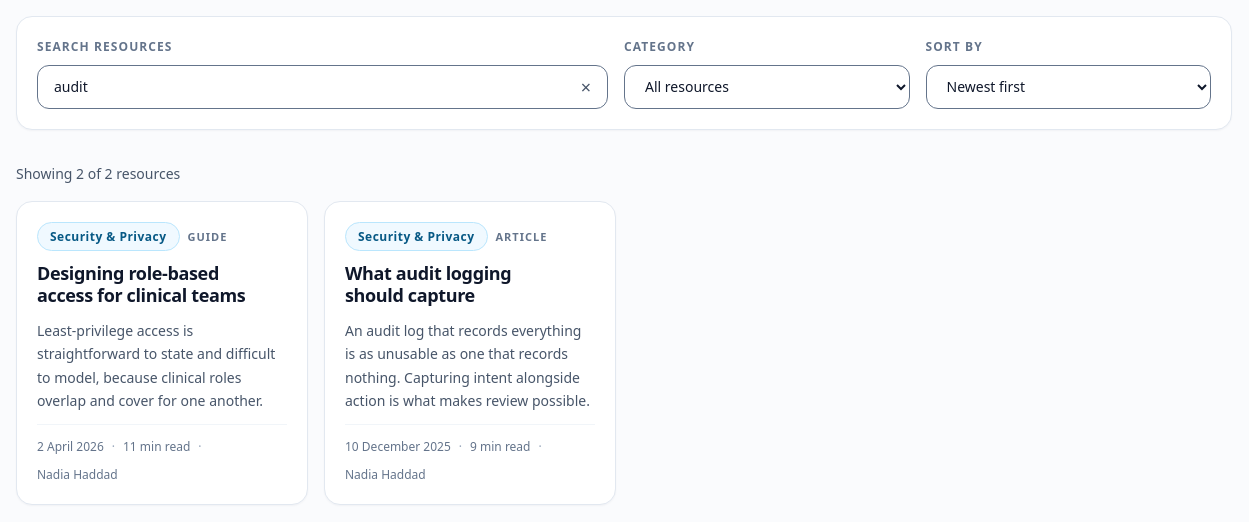
Test: ResourceLibrary › URL synchronisation › clears the search field and the URL from the clear button
Click the button named "clear search".
click(586, 87)  # box top-left (568, 69), bottom-right (604, 105)
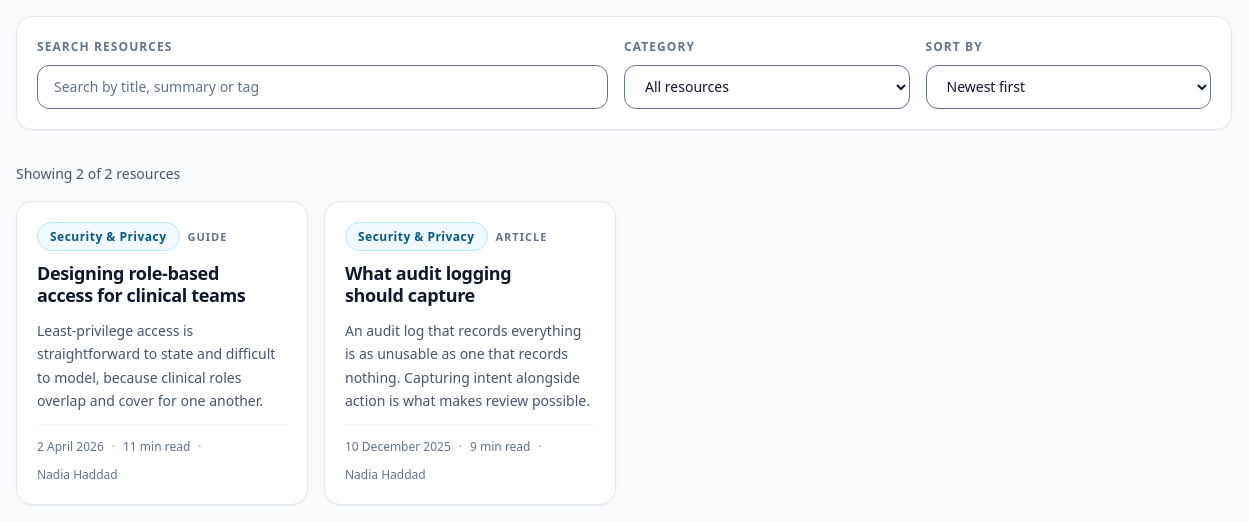
Result: the search field labelled "Search resources" is empty at top-left (37, 65), bottom-right (608, 109)
